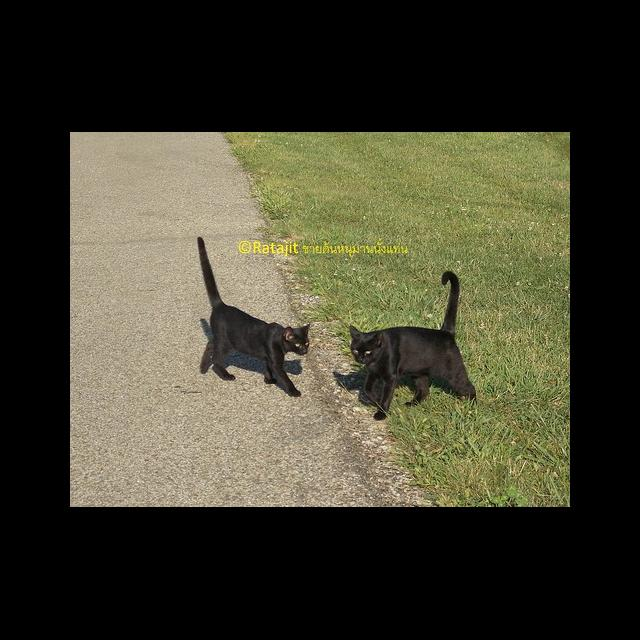animals: (348, 272, 476, 422), (197, 236, 313, 398)
